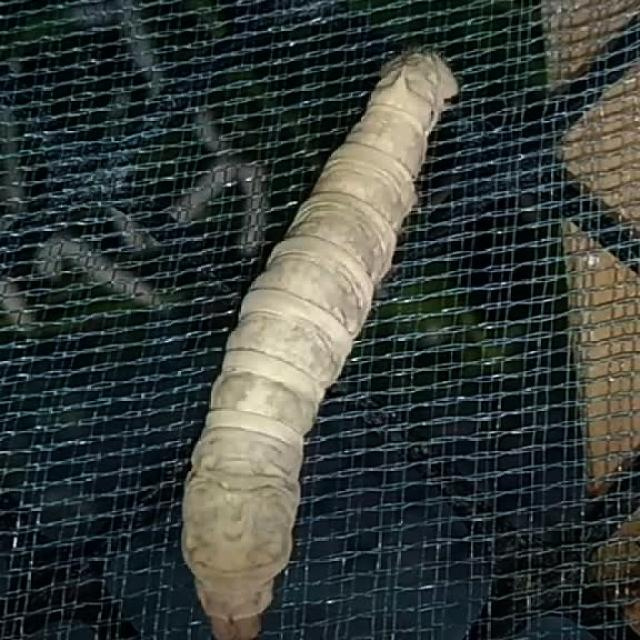Grasserie: (147, 29, 476, 640)
